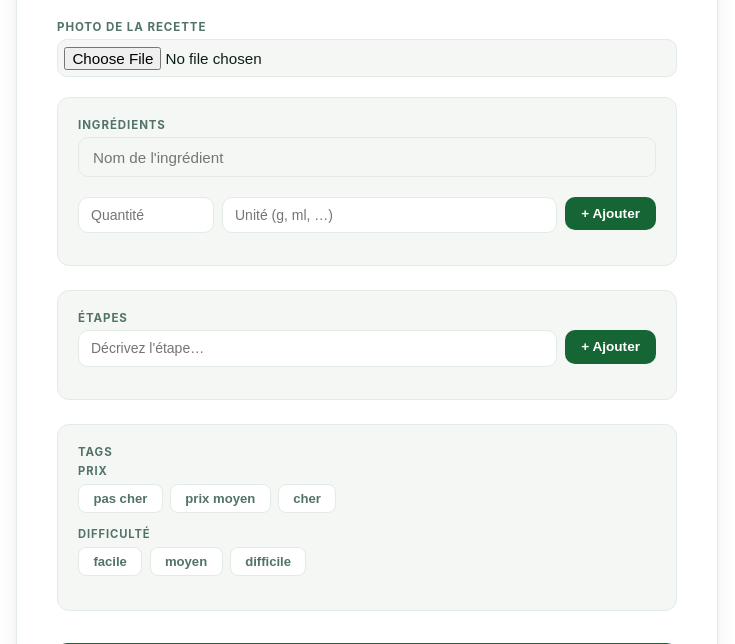
Scenario: RecetteForm — mode création › ajouter une étape valide l'affiche dans la liste
(page scrolled)
Type "Préchauffer le four à 180°C" into the field with placeholder "Décrivez l'étape…". click: (318, 348)
box: [78,330,557,367]
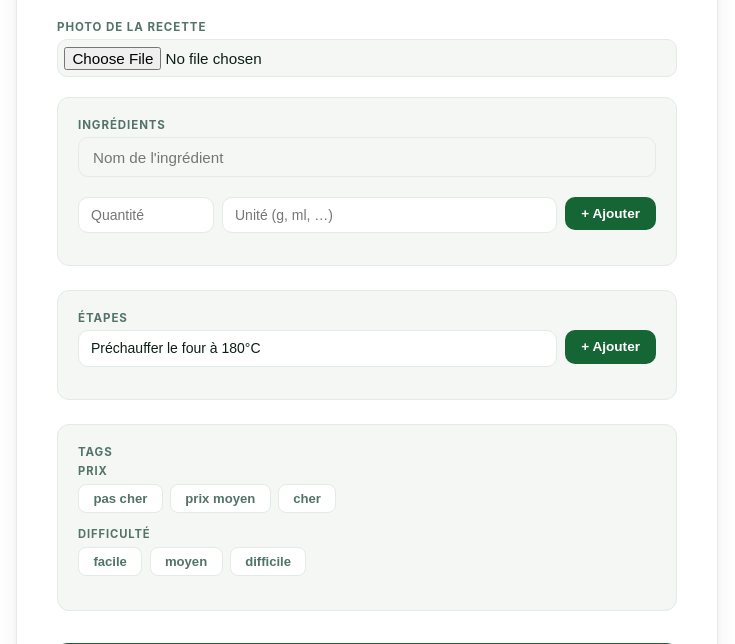
Click the 2nd button "+ Ajouter". click: click(611, 347)
box: [565,330,656,364]
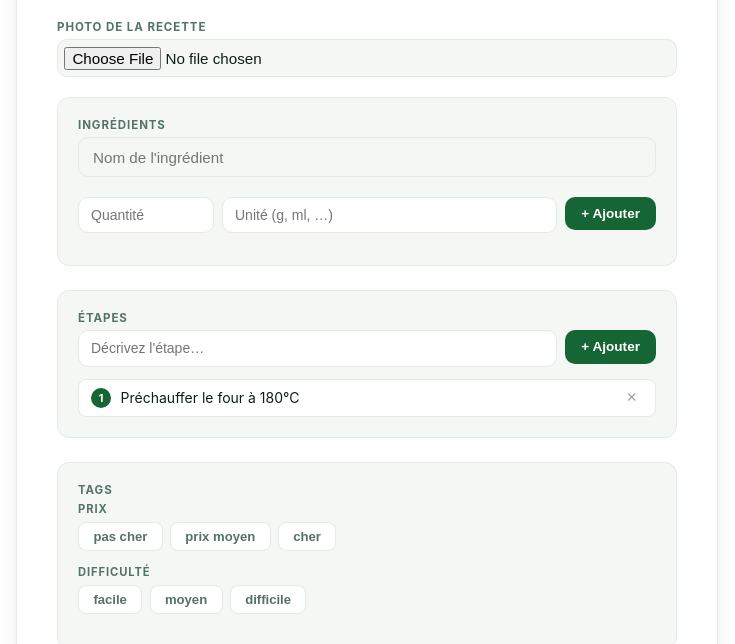
Expected: the text "Préchauffer le four à 180°C" is shown, [121,389,300,406]
